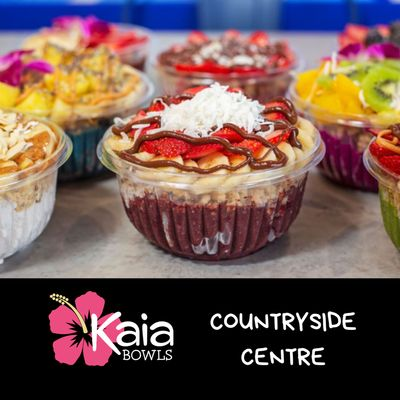pizza: (362, 131, 400, 261)
sushi: (0, 109, 72, 267)
